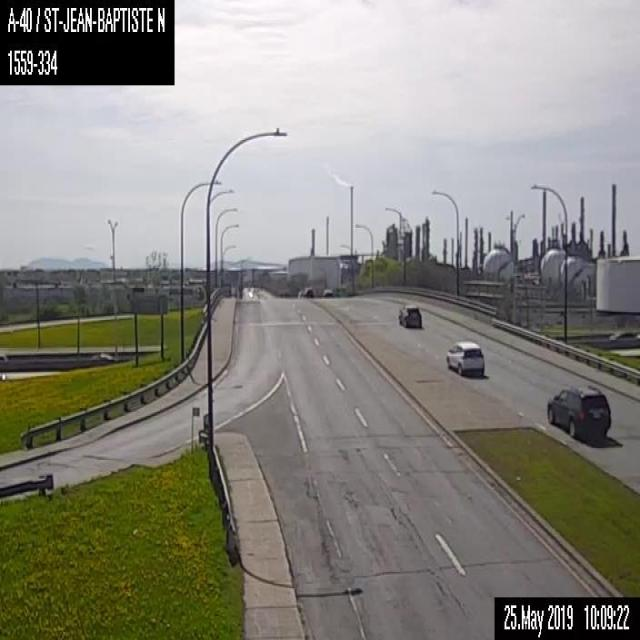vehicle: (547, 383, 611, 436), (446, 339, 484, 375), (398, 304, 421, 327), (302, 287, 312, 297), (323, 289, 332, 296)
